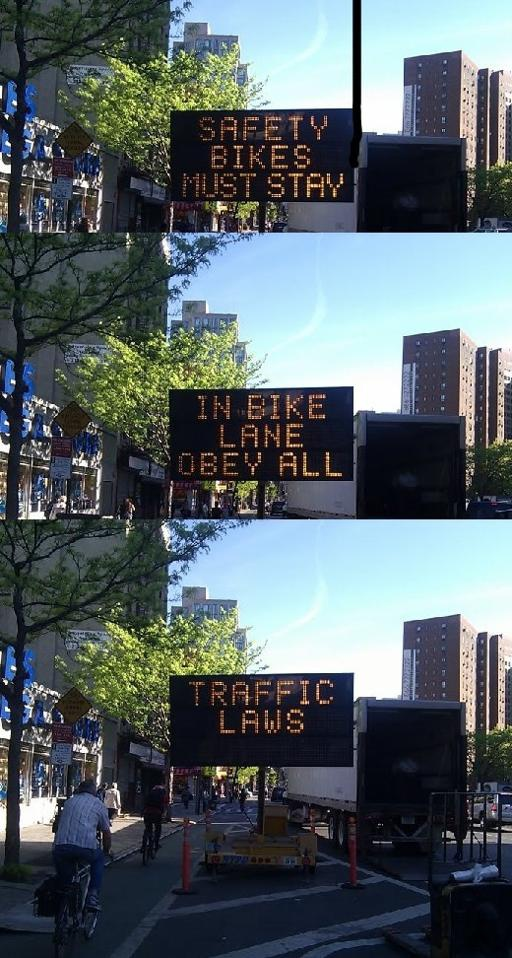non-vehicle: (46, 849, 113, 957), (138, 829, 160, 865)
